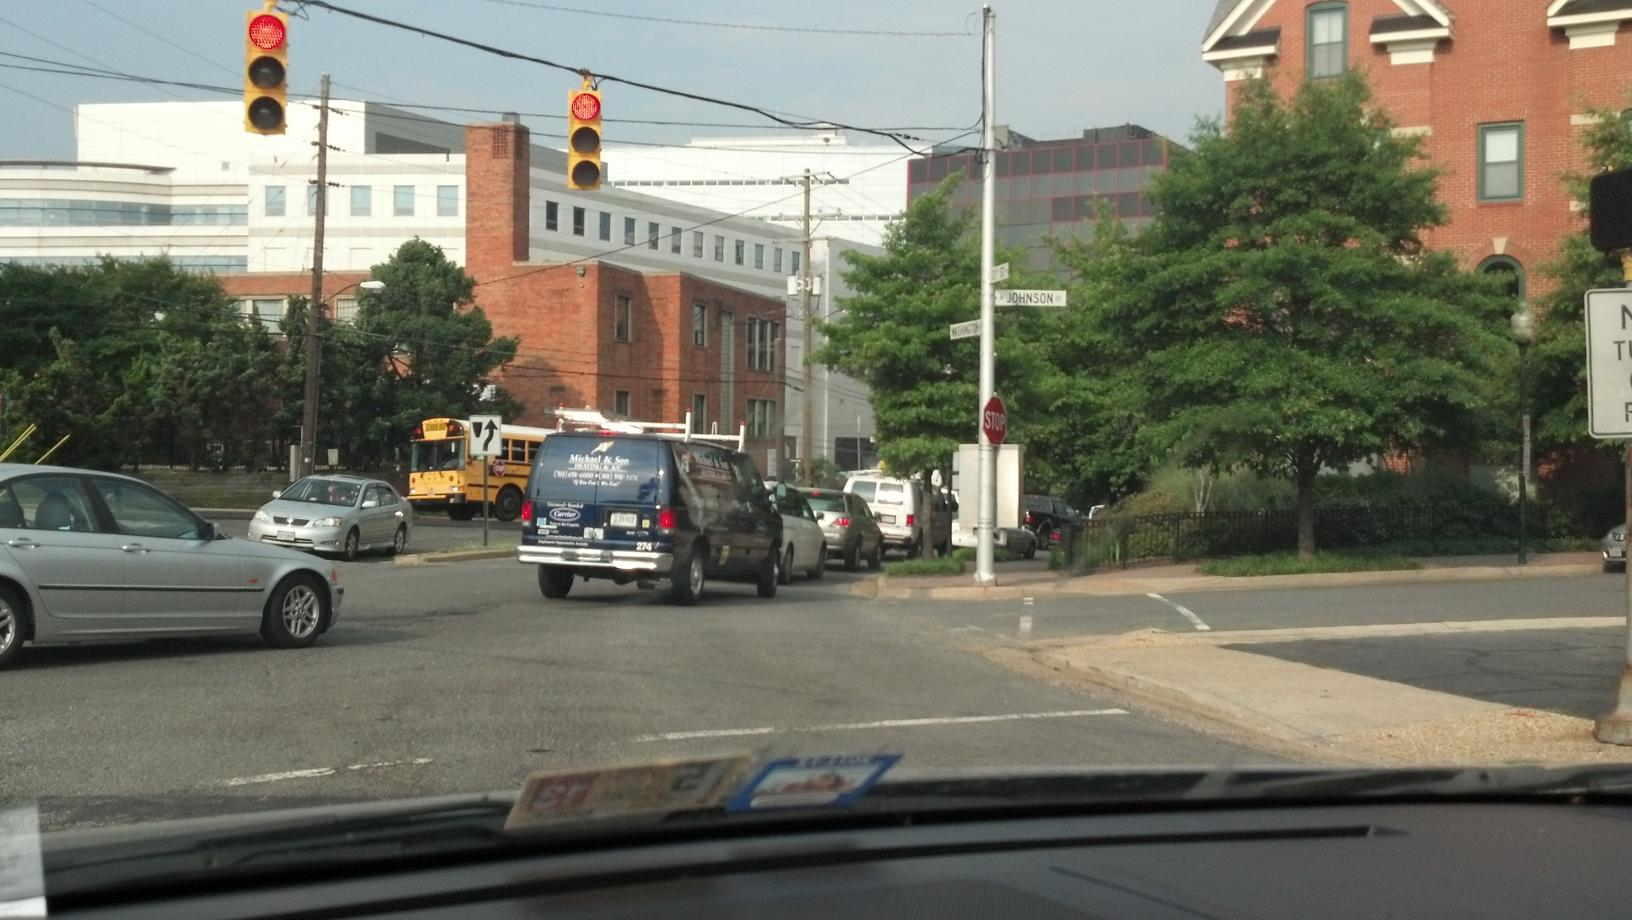car: (7, 462, 339, 645), (514, 422, 803, 602)
